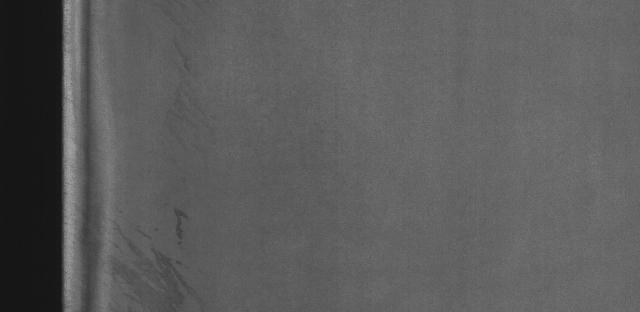water_spot: (109, 199, 222, 312), (158, 27, 234, 160)
